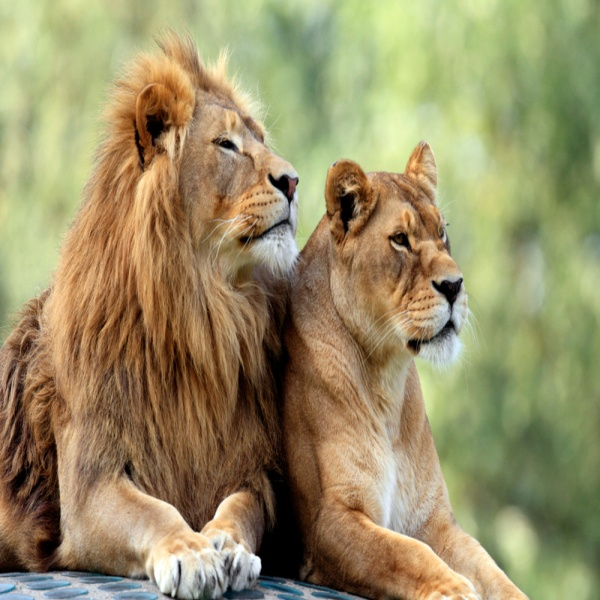Lion: (1, 27, 304, 600), (273, 137, 532, 600)
